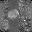people: (8, 8, 20, 20)
